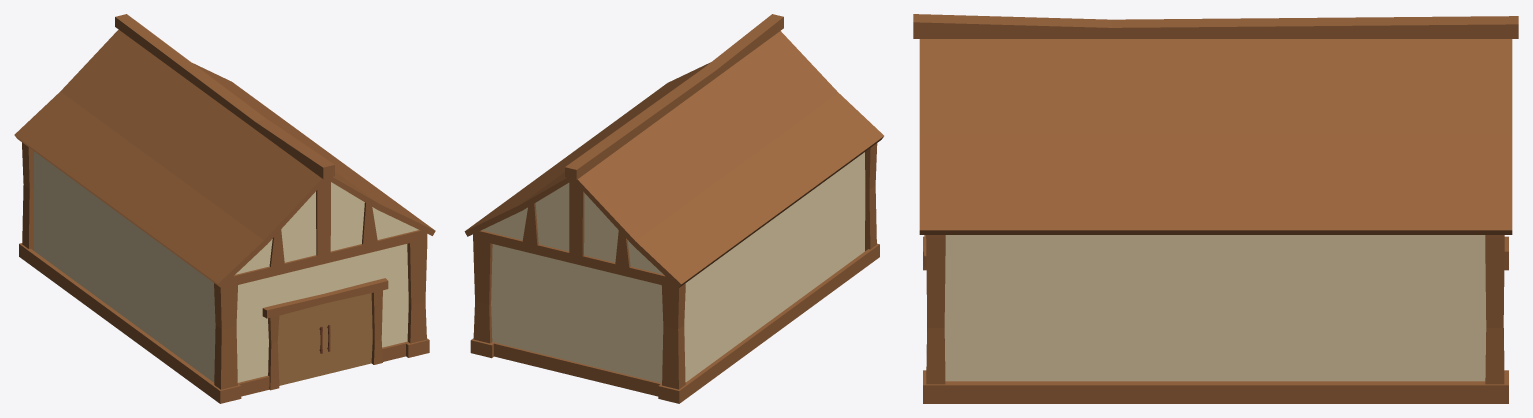
Rendered from Barn_01.fbx.
3 renders of one model, left to right at view 1: azimuth 30°, elevation 25°; view 2: azimuth 150°, elevation 25°; view 3: azimuth 270°, elevation 25°, orthographic. The views are drawn at different scales.
Parts seen in each view (by area): view 1: Barn_01; view 2: Barn_01; view 3: Barn_01.
Boxes of the visible parts, bbox=[...] form: Barn_01: bbox=[14, 14, 435, 403]; Barn_01: bbox=[464, 14, 883, 403]; Barn_01: bbox=[913, 14, 1518, 403].
Size of the model in its own units: 643 by 605 by 1065.
